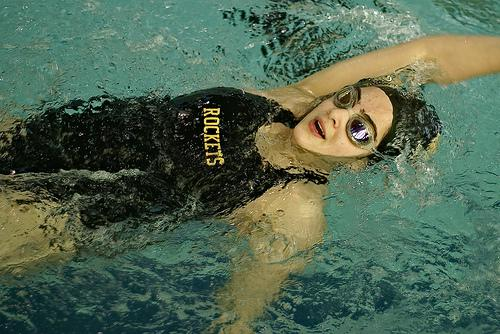human: (0, 31, 500, 328)
